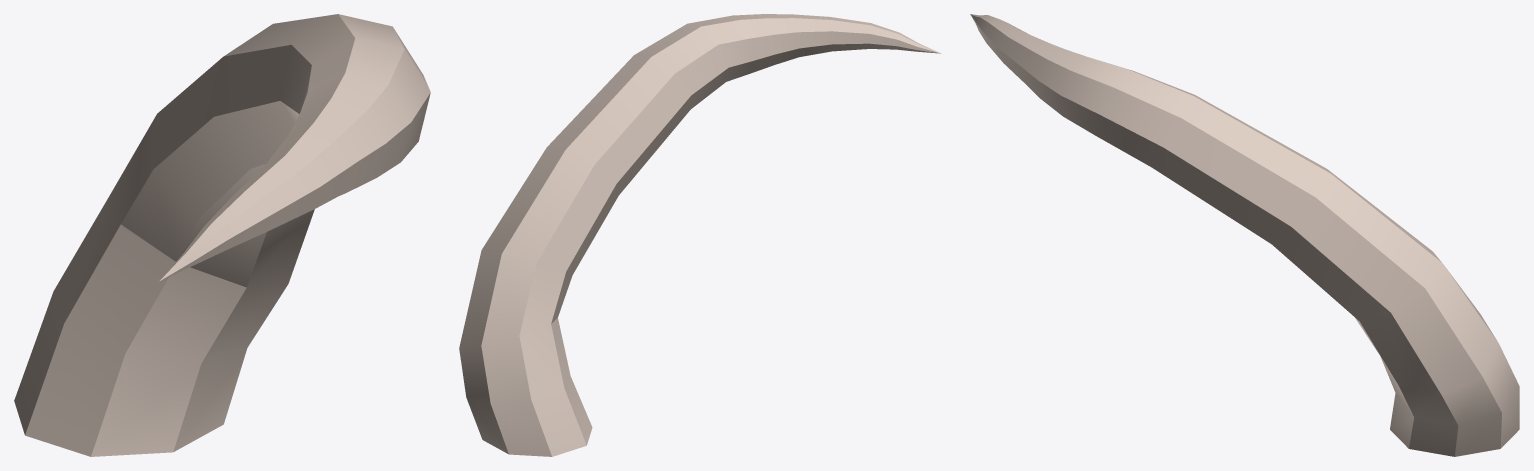
Rendered from 6ylnerfBjXZ.glb.
3 renders of one model, left to right at view 1: azimuth 30°, elevation 25°; view 2: azimuth 150°, elevation 25°; view 3: azimuth 270°, elevation 25°, orthographic. The views are drawn at different scales.
Visible parts, largest first — view 1: Geo_BullHorn; view 2: Geo_BullHorn; view 3: Geo_BullHorn.
Part boxes in pixels (bbox=[...]): Geo_BullHorn: bbox=[14, 14, 430, 456]; Geo_BullHorn: bbox=[459, 14, 940, 456]; Geo_BullHorn: bbox=[970, 14, 1519, 456].
Size of the model in its own units: 0.9189 by 1 by 1.43.
